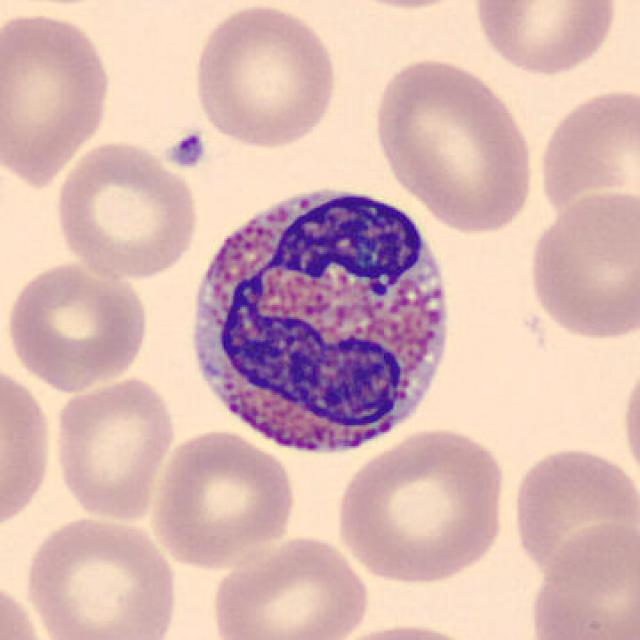Eosinophil: (175, 166, 470, 469)
Platelets: (165, 129, 208, 171)
RBC: (368, 53, 540, 234), (331, 423, 512, 587), (188, 0, 342, 152), (49, 138, 202, 282), (148, 427, 298, 571), (0, 7, 116, 189), (22, 511, 182, 640), (2, 257, 153, 393), (50, 372, 178, 524), (507, 441, 638, 585), (523, 187, 638, 344), (531, 79, 640, 244), (208, 532, 373, 640), (524, 518, 638, 640), (469, 0, 622, 79), (0, 360, 57, 538), (320, 619, 487, 640), (0, 573, 52, 640), (617, 347, 640, 494), (325, 0, 481, 12)
